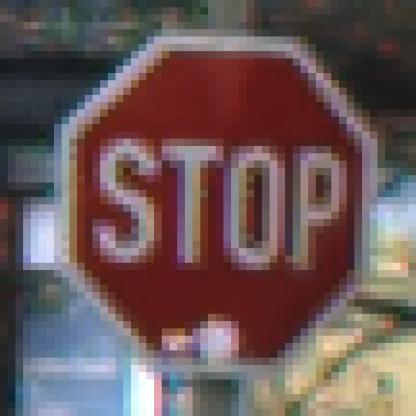stop: (59, 29, 356, 376)
